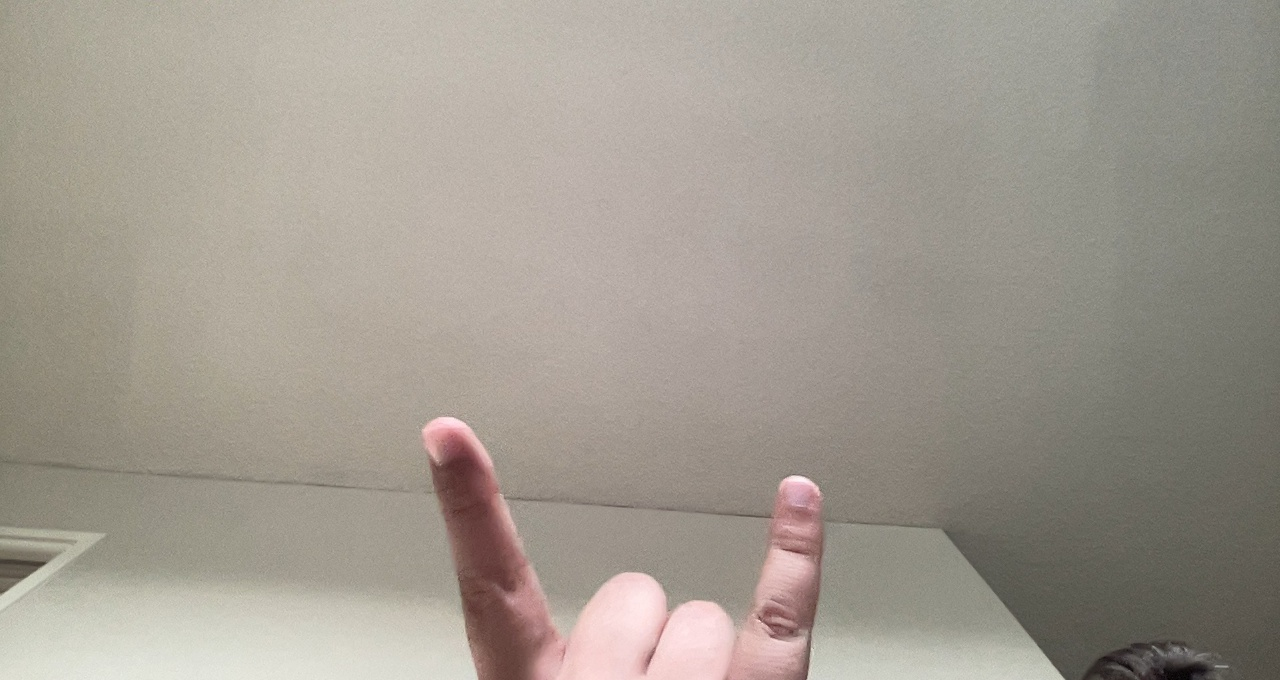rockon sign: (403, 388, 842, 680)
